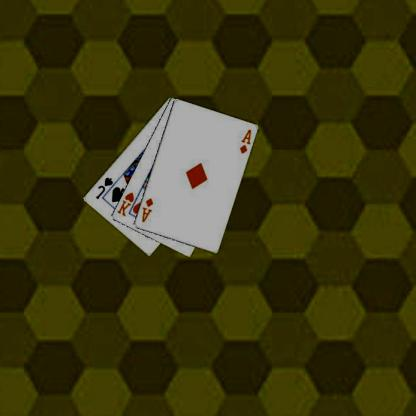AD: (141, 196, 156, 224), (239, 127, 254, 155)
JS: (94, 174, 116, 200)
KH: (116, 190, 137, 218)
